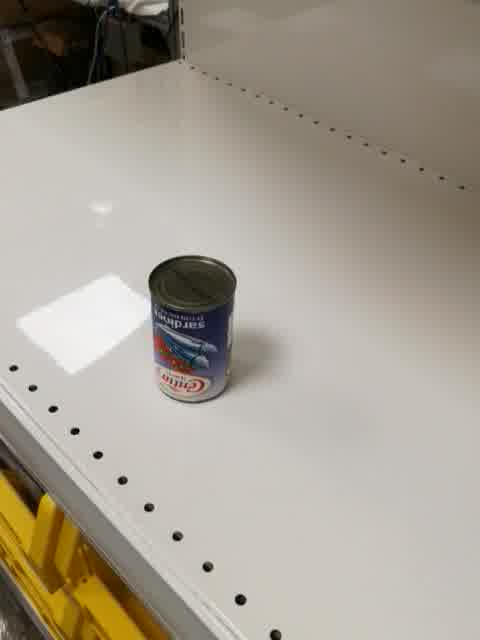sardine: (148, 254, 238, 404)
